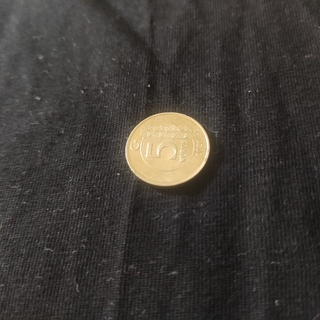5KURUS: (122, 109, 212, 188)
